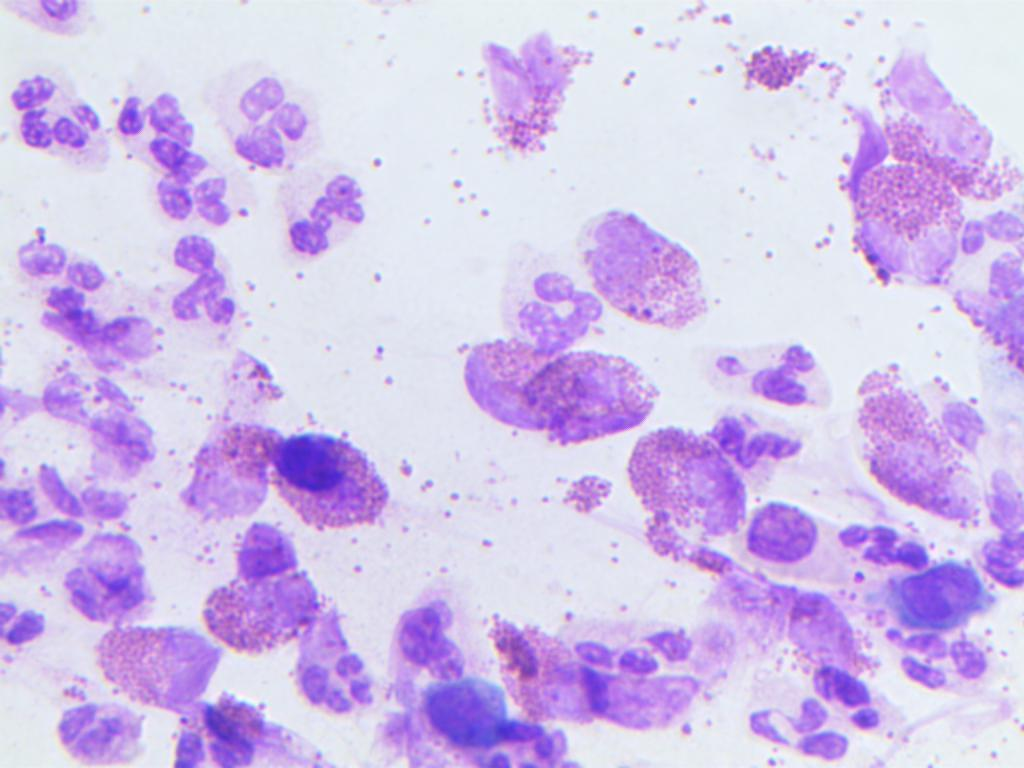eosinophil: (855, 362, 974, 528), (591, 199, 719, 331), (634, 426, 751, 554), (483, 600, 580, 738), (847, 162, 953, 288), (439, 343, 572, 443), (89, 612, 221, 711), (523, 351, 668, 440), (206, 558, 327, 644)
epithelial: (263, 430, 395, 529), (897, 558, 1006, 632), (737, 498, 820, 568)
goblet_cell: (0, 560, 44, 660)
neutrophil: (14, 237, 163, 377), (113, 91, 238, 229), (0, 437, 124, 568), (207, 56, 319, 173), (48, 504, 149, 632), (4, 64, 107, 178), (265, 162, 381, 259), (142, 228, 258, 325), (832, 499, 940, 592), (160, 692, 298, 763), (560, 612, 713, 676), (878, 620, 997, 702), (708, 338, 837, 412), (737, 686, 852, 768), (375, 584, 472, 680), (499, 254, 592, 348), (740, 27, 839, 110), (407, 728, 589, 768), (294, 644, 369, 724)
